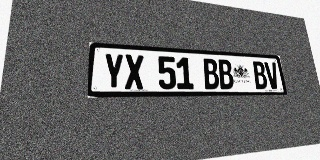1: (175, 57, 194, 89)
5: (158, 56, 177, 89)
B: (202, 58, 220, 89), (217, 59, 235, 89), (252, 61, 268, 89)
V: (264, 62, 280, 89)
X: (124, 54, 144, 89)
Y: (103, 53, 124, 89)
